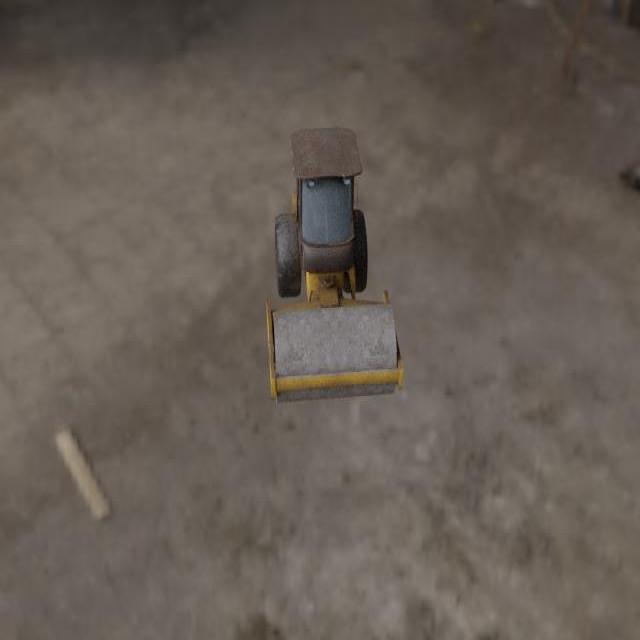Roller: (266, 125, 403, 403)
